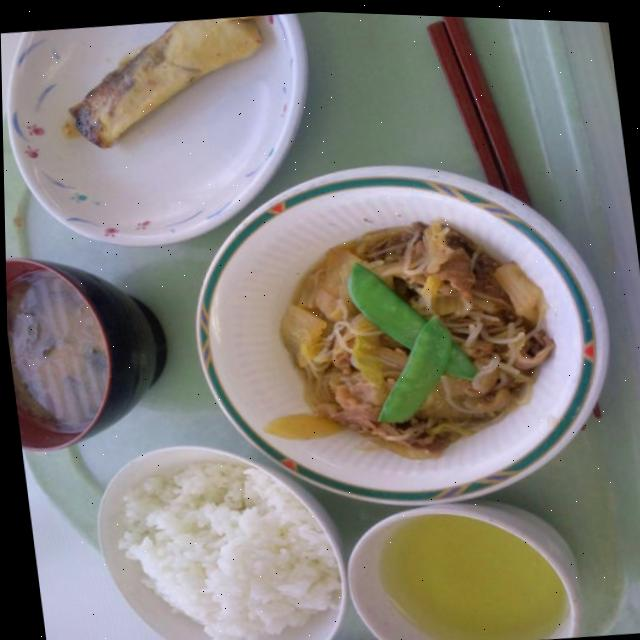汤锅炖物: (4, 241, 139, 440)
牛肉菜式: (229, 200, 570, 489)
米饭主食: (87, 427, 338, 640)
